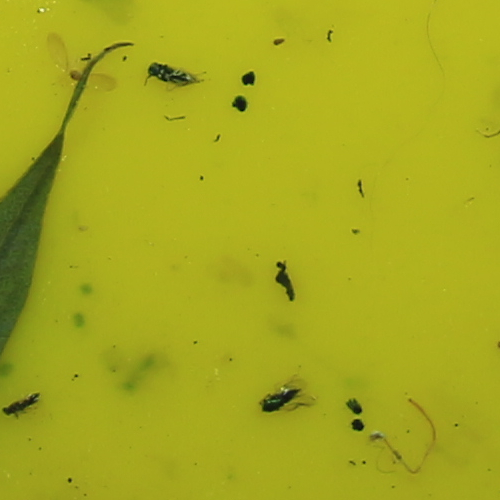Psyllaephagus: (147, 59, 203, 90), (256, 383, 303, 415)
